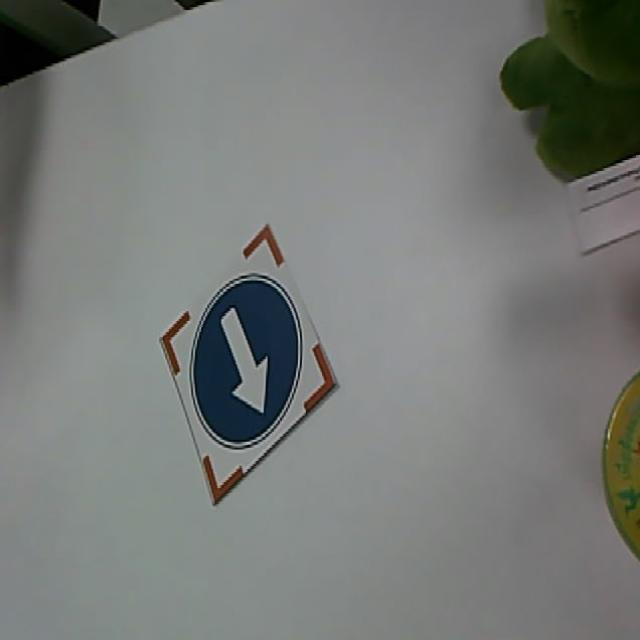straight: (160, 224, 337, 509)
